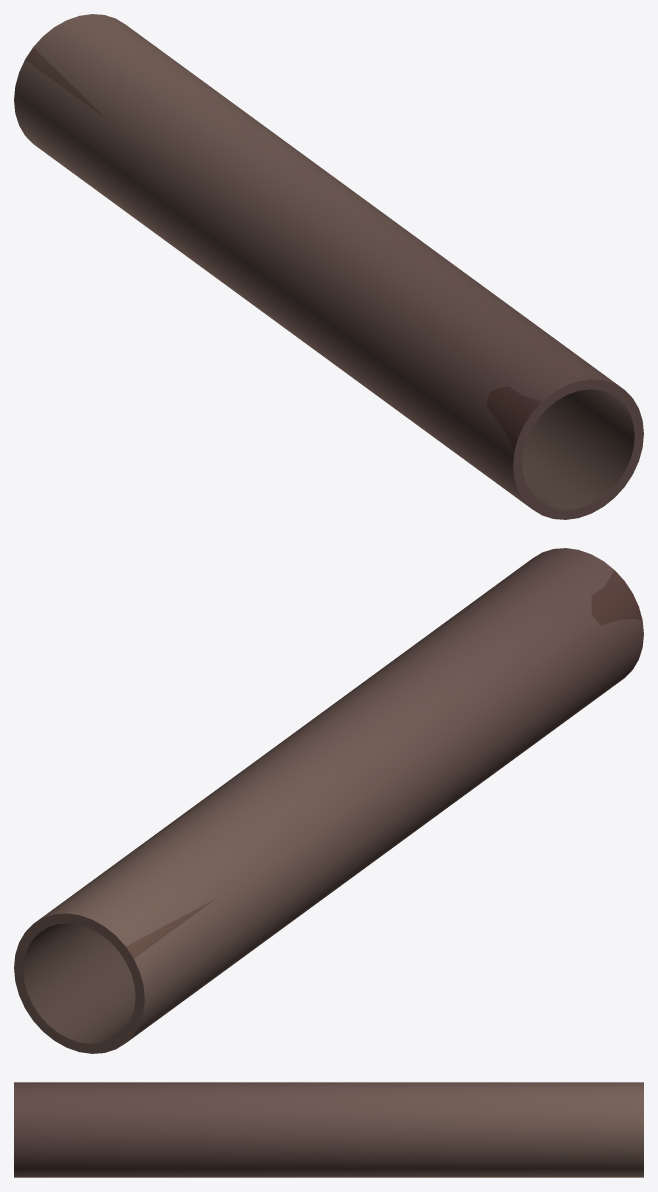
Rendered from pipe.fbx.
The picture shows the model from 3 angles, top to bottom: view 1: azimuth 30°, elevation 25°; view 2: azimuth 150°, elevation 25°; view 3: azimuth 270°, elevation 25°; orthographic projection. The views are drawn at different scales.
Visible parts, largest first — view 1: Cylinder.004; view 2: Cylinder.004; view 3: Cylinder.004.
Boxes of the visible parts, x1=… form: Cylinder.004: x1=14, y1=14, x2=643, y2=519; Cylinder.004: x1=14, y1=548, x2=643, y2=1053; Cylinder.004: x1=14, y1=1082, x2=643, y2=1177.
Size of the model in its own units: 200 by 200 by 1321.
